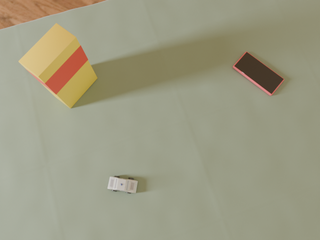box: (19, 23, 97, 108)
phone: (233, 52, 284, 96)
toy_car: (108, 176, 138, 193)
